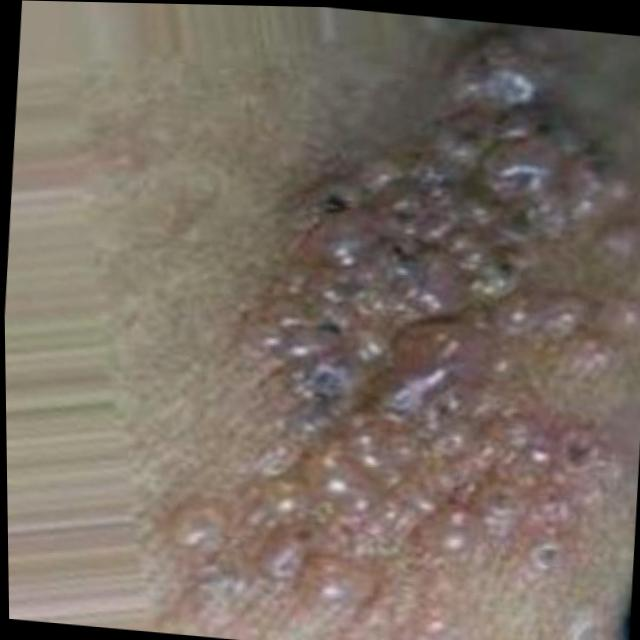Shingles: (153, 5, 640, 640)
